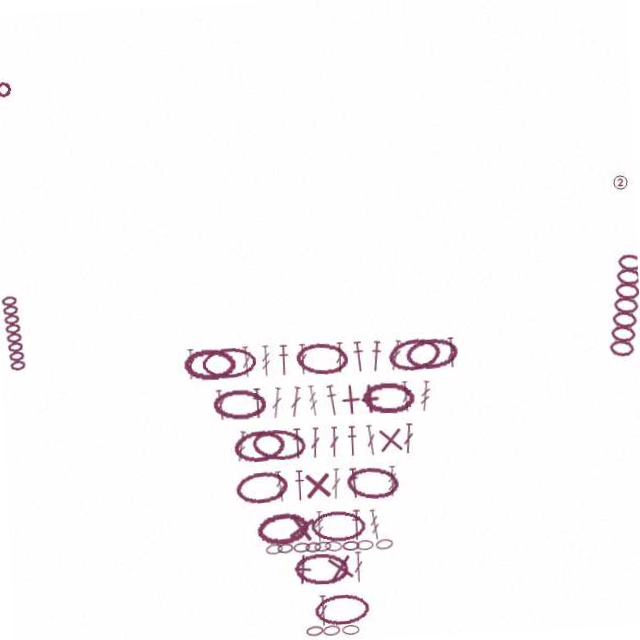chain: (385, 340, 441, 377), (245, 425, 301, 461), (338, 467, 393, 503), (246, 509, 300, 544), (227, 467, 281, 502), (293, 341, 347, 376), (403, 342, 458, 376), (227, 426, 281, 460), (301, 594, 356, 627), (283, 552, 337, 585), (301, 511, 356, 543), (358, 384, 411, 417), (200, 343, 254, 375), (209, 385, 262, 417), (181, 343, 234, 375), (255, 541, 273, 553), (365, 541, 383, 553), (314, 541, 332, 552), (292, 625, 309, 636), (309, 625, 326, 636), (283, 541, 300, 552), (304, 541, 321, 552), (267, 541, 283, 552), (295, 541, 311, 552), (328, 626, 345, 636), (332, 542, 349, 552), (346, 542, 363, 552)
double: (386, 343, 402, 375), (266, 385, 280, 417), (285, 385, 299, 417), (359, 427, 372, 458), (397, 427, 409, 458), (211, 385, 223, 416), (323, 469, 334, 500), (304, 427, 315, 458), (323, 427, 334, 458), (397, 385, 408, 416), (239, 343, 250, 374), (305, 595, 315, 626), (342, 553, 352, 584), (184, 343, 194, 374), (296, 343, 306, 374), (333, 343, 343, 374), (445, 343, 455, 374)
enseble_chain: (605, 267, 640, 373), (1, 281, 26, 359)
half_double: (321, 385, 336, 417), (367, 343, 382, 375), (350, 343, 364, 374), (340, 469, 353, 500), (341, 511, 353, 542), (286, 469, 298, 500), (286, 427, 298, 458), (248, 385, 260, 416), (276, 343, 288, 374), (341, 427, 352, 458)
noise: (5, 66, 23, 84), (617, 187, 635, 205)
single: (274, 509, 310, 545), (312, 551, 346, 586), (275, 552, 308, 585), (294, 469, 326, 501), (369, 427, 401, 459), (331, 385, 363, 417), (350, 385, 382, 417)
treble: (228, 427, 243, 459), (359, 511, 372, 543), (415, 385, 428, 417), (266, 469, 279, 500), (303, 385, 316, 416), (305, 511, 315, 542), (380, 469, 390, 500), (259, 343, 269, 374)
